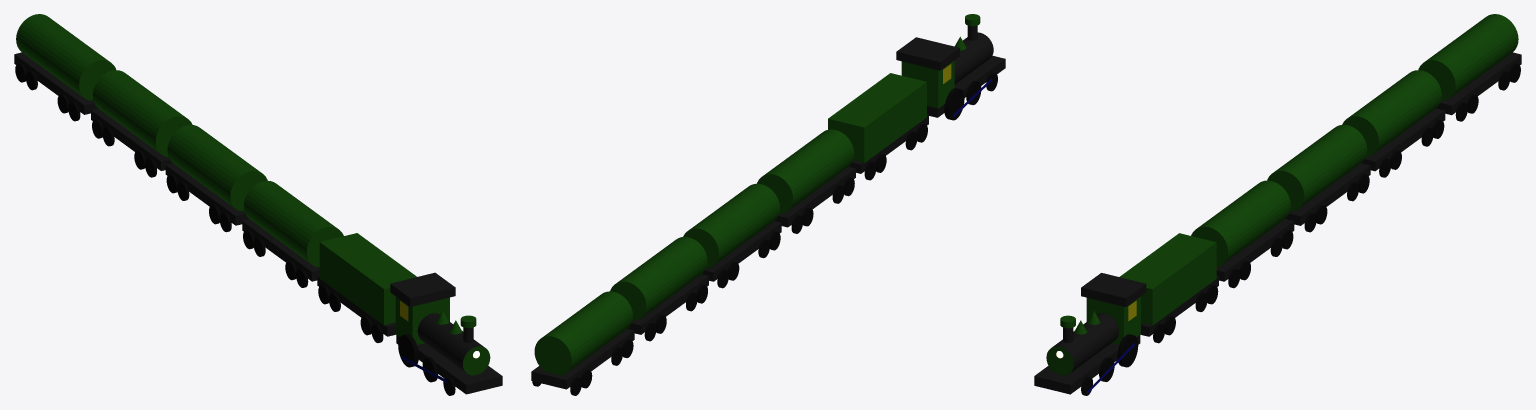
The model's file is train 2.fbx.
3 renders of one model, left to right at view 1: azimuth 30°, elevation 25°; view 2: azimuth 150°, elevation 25°; view 3: azimuth 330°, elevation 25°, orthographic. The views are drawn at different scales.
Visible parts, largest first — view 1: Cube.068, Cylinder.019, Cylinder.014, Cylinder.017, Cylinder.020, Cylinder.010, Cube.061, Cube.063, Cube.062, Cube.070, Cube.058, Cube.069 (+3 smaller); view 2: Cube.068, Cylinder.019, Cylinder.017, Cylinder.020, Cylinder.014, Cube.070, Cube.063, Cube.062, Cylinder.010, Cube.069, Cube.059, Cube.058 (+3 smaller); view 3: Cube.068, Cylinder.019, Cylinder.014, Cylinder.017, Cylinder.020, Cylinder.010, Cube.061, Cube.063, Cube.070, Cube.058, Cube.069, Cube.059 (+3 smaller).
Boxes of the visible parts, x1,y1,x2,y2 form: Cube.068: (319, 233, 416, 325); Cylinder.019: (16, 14, 116, 100); Cylinder.014: (167, 125, 267, 211); Cylinder.017: (92, 70, 192, 156); Cylinder.020: (244, 180, 343, 267); Cylinder.010: (417, 313, 490, 375); Cube.061: (396, 334, 502, 394); Cube.063: (390, 272, 455, 306); Cube.062: (395, 296, 449, 344); Cube.070: (14, 52, 98, 114); Cube.058: (165, 163, 248, 225); Cube.069: (91, 108, 172, 170); Cube.068: (828, 73, 926, 162); Cylinder.019: (534, 291, 632, 375); Cylinder.017: (610, 236, 707, 320); Cylinder.020: (757, 129, 854, 213); Cylinder.014: (683, 183, 779, 267); Cube.070: (531, 328, 634, 389); Cube.063: (896, 37, 959, 70); Cube.062: (901, 60, 954, 108); Cylinder.010: (954, 32, 993, 83); Cube.069: (627, 274, 708, 334); Cube.059: (775, 166, 855, 227); Cube.058: (702, 221, 781, 281); Cube.068: (1120, 233, 1216, 325); Cylinder.019: (1418, 14, 1518, 100); Cylinder.014: (1267, 124, 1367, 211); Cylinder.017: (1342, 70, 1441, 156); Cylinder.020: (1191, 180, 1290, 266); Cylinder.010: (1046, 313, 1118, 375); Cube.061: (1034, 335, 1140, 394); Cube.063: (1081, 273, 1146, 306); Cube.070: (1436, 52, 1521, 115); Cube.058: (1285, 163, 1370, 225); Cube.069: (1362, 108, 1445, 171); Cube.059: (1216, 219, 1294, 281).
Bounding box in the file's own units: 300 × 434 × 5001.
